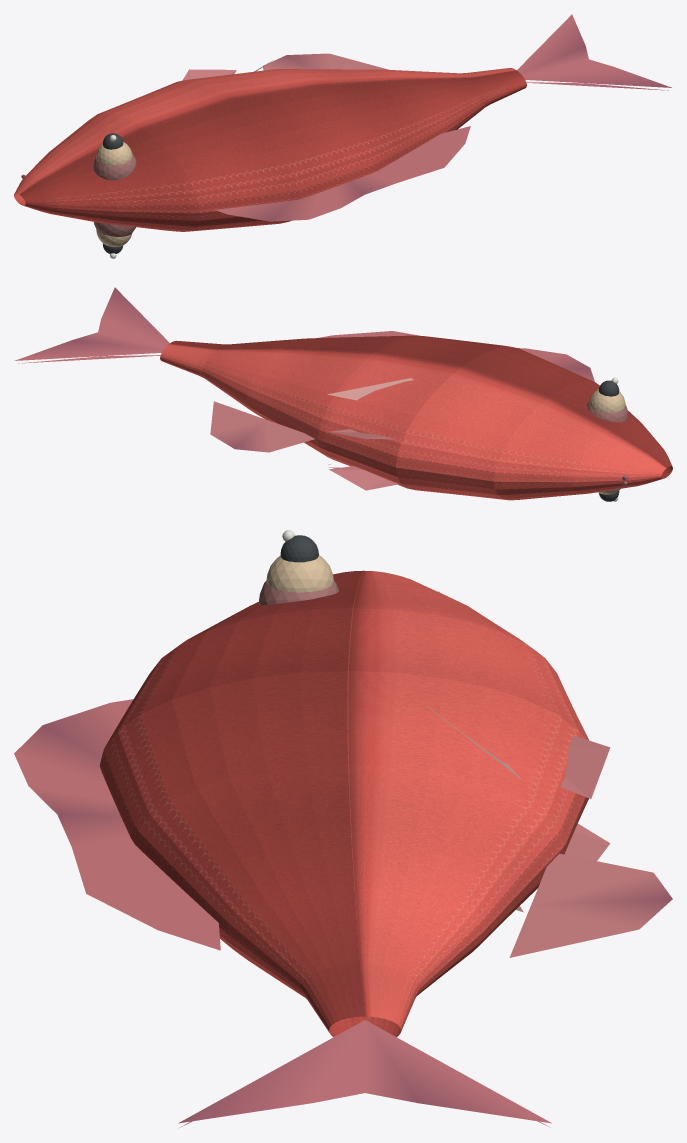
Rendered from Ikan_Merah.glb.
3 views of the same model, one above another, from view 1: azimuth 30°, elevation 25°; view 2: azimuth 150°, elevation 25°; view 3: azimuth 270°, elevation 25° (orthographic). The views are drawn at different scales.
Parts seen in each view (by area): view 1: fish; view 2: fish; view 3: fish.
Part boxes in pixels (x1,y1,x2,y2): fish: (14,14,671,258); fish: (14,287,672,501); fish: (14,530,672,1128).
Bounding box in the file's own units: 2.69 × 0.526 × 1.37.
1 material, 1 textured.
